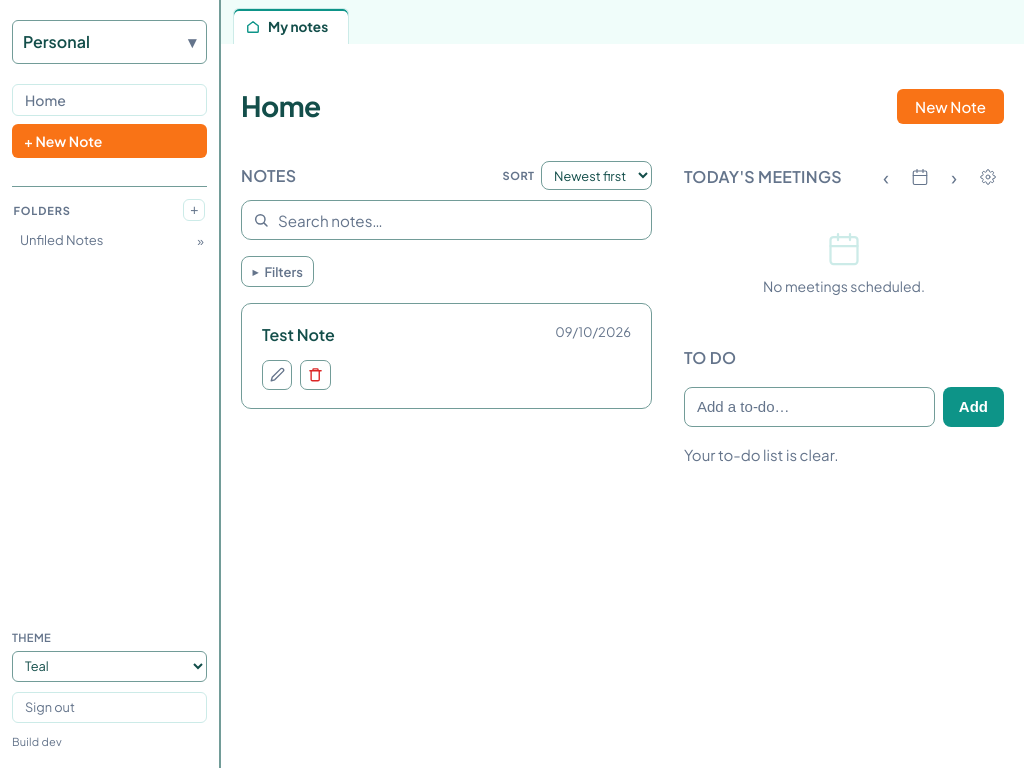
it: Routing (21-A) › opening a note pushes a /notes/:id URL
The image size is (1024, 768).
What coordinates should you click on to do the following:
click the element with test id "note-card"
I would click on:
 (446, 356)
Its box is [241, 303, 652, 409].
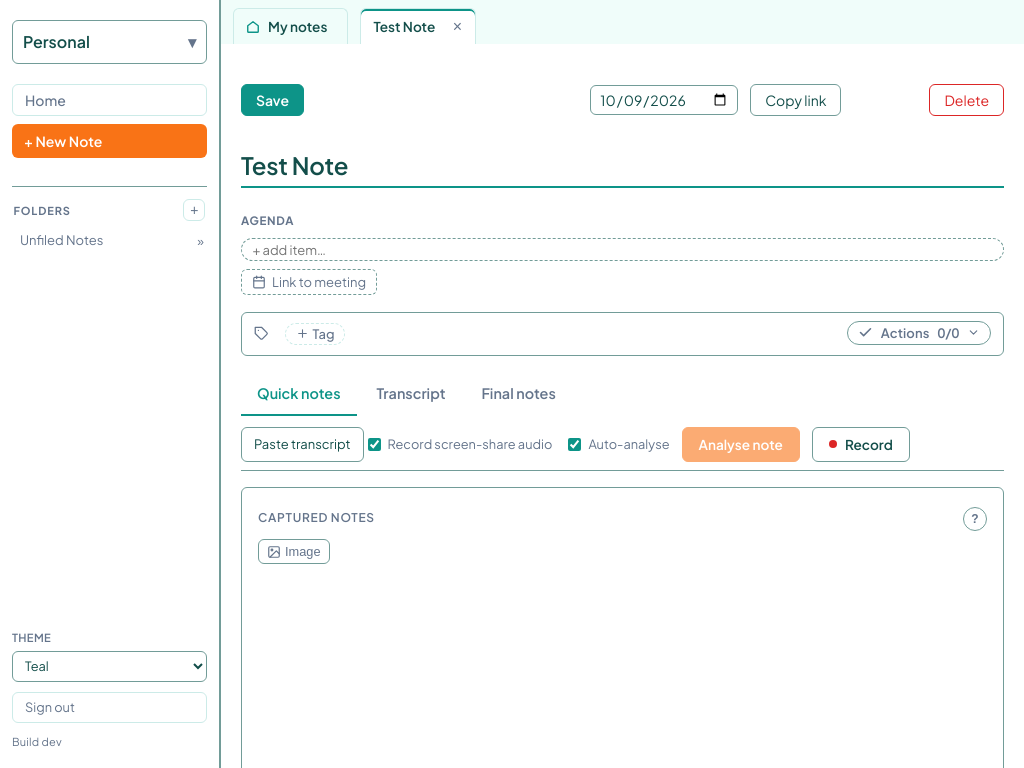
Expected: the field with test id "note-title-input" is shown, [241, 144, 1004, 188]
